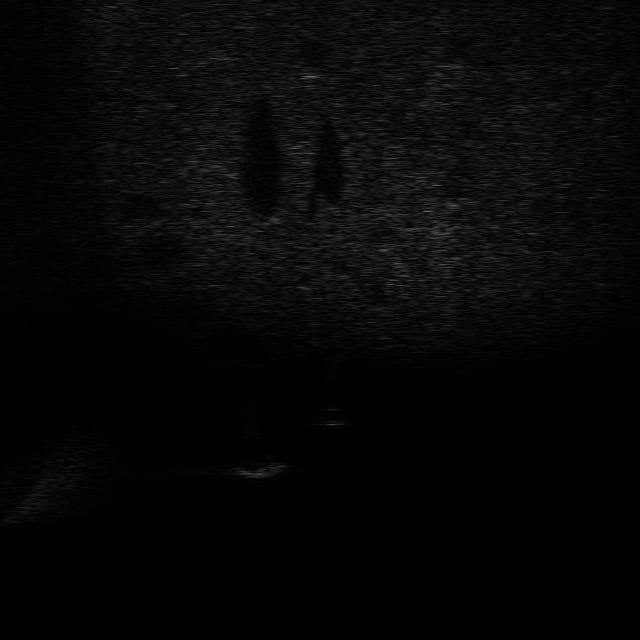ball: (310, 404, 349, 429)
human body: (320, 323, 354, 384)
square cage: (221, 450, 291, 481)
